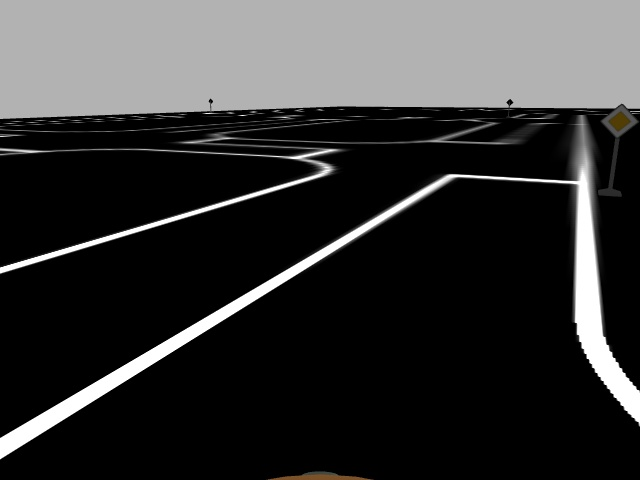priority: (600, 102, 638, 139)
